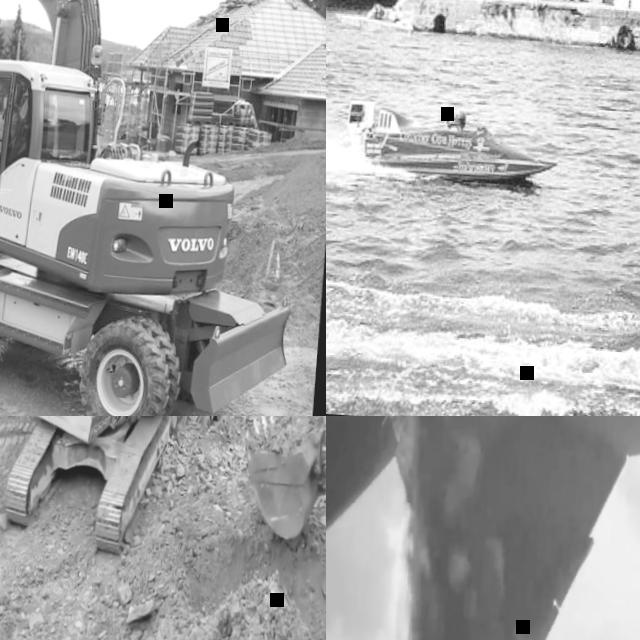Hardhat: (452, 110, 469, 126)
Person: (0, 101, 26, 185), (450, 110, 468, 134)
Safety Vest: (8, 116, 27, 151)
machinery: (0, 0, 326, 416), (326, 416, 640, 640), (0, 416, 326, 576)
